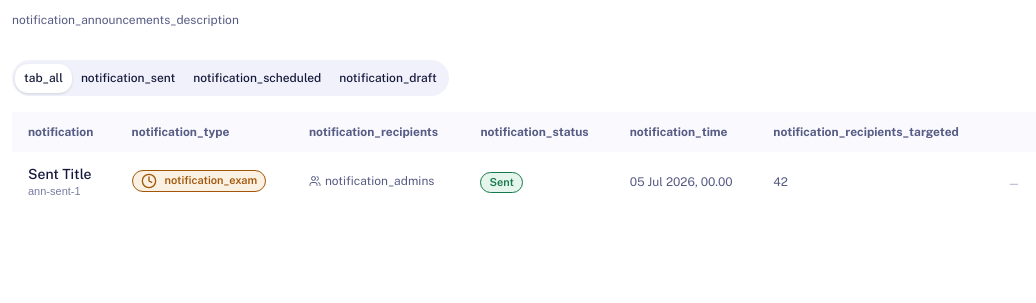
it: AnnouncementTable › distinguishes an empty filtered tab from an empty feed
The image size is (1036, 303).
Press the mouse on the tab "notification_draft" at (388, 78), box x1=330 y1=64 x2=446 y2=92
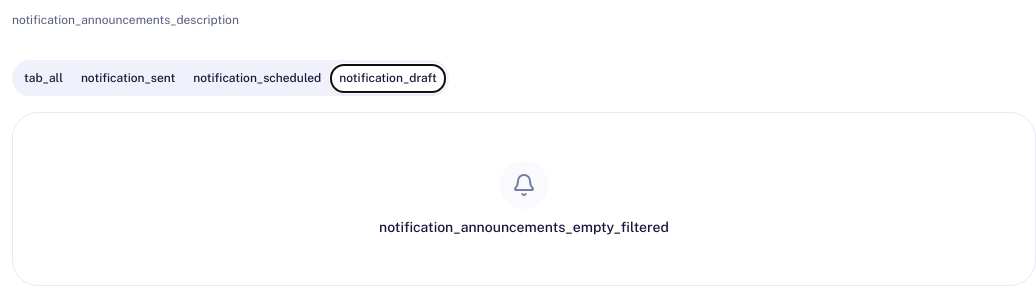
Now the text "notification_announcements_empty_filtered" is shown, box x1=379 y1=217 x2=669 y2=237
